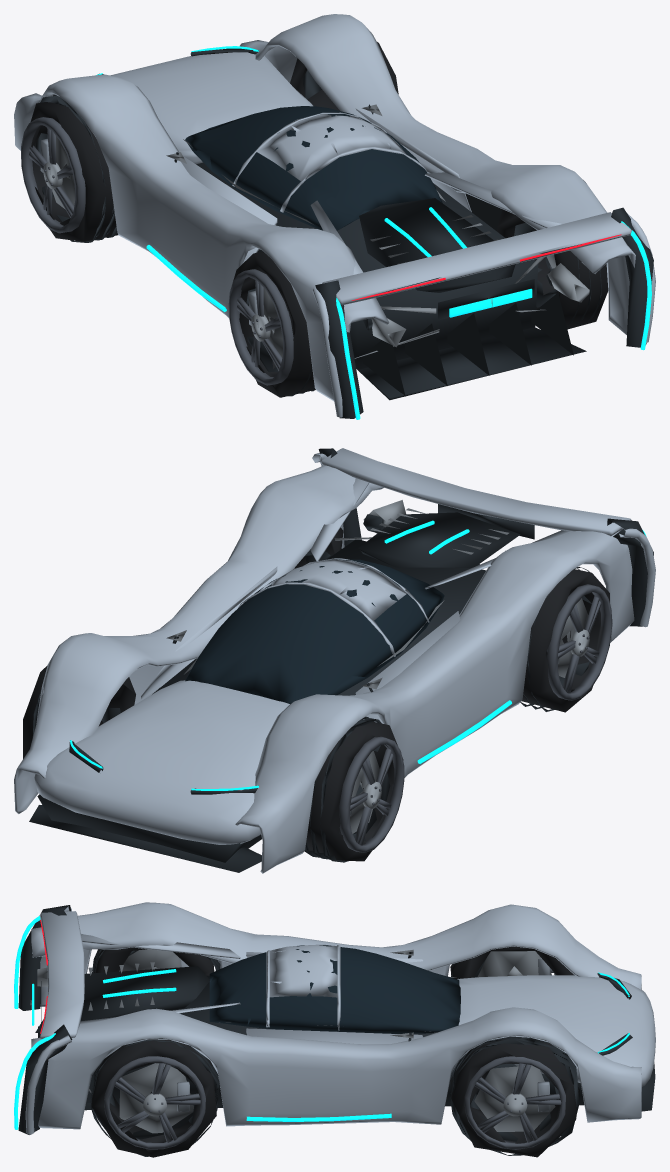
File: CloudlineLOD2.fbx
The picture shows the model from 3 angles, top to bottom: view 1: azimuth 30°, elevation 25°; view 2: azimuth 150°, elevation 25°; view 3: azimuth 270°, elevation 25°; orthographic projection. The views are drawn at different scales.
Parts seen in each view (by area): view 1: Liquid_Silver, Graphite_Aero, Midnight_Glass, Tire_Rubber, Dark_Forged_Rim, Satin_Titanium, Cyan_Energy, Brake_Ceramic; view 2: Liquid_Silver, Graphite_Aero, Midnight_Glass, Tire_Rubber, Dark_Forged_Rim, Satin_Titanium, Brake_Ceramic, Cyan_Energy; view 3: Liquid_Silver, Midnight_Glass, Graphite_Aero, Tire_Rubber, Brake_Ceramic, Dark_Forged_Rim, Cyan_Energy, Satin_Titanium, Titanium_Caliper.
Boxes of the visible parts, <box> form: Liquid_Silver: <box>14,14,655,417</box>; Graphite_Aero: <box>35,48,653,418</box>; Midnight_Glass: <box>185,106,442,230</box>; Tire_Rubber: <box>29,42,608,397</box>; Dark_Forged_Rim: <box>21,117,551,385</box>; Satin_Titanium: <box>43,104,589,358</box>; Cyan_Energy: <box>96,46,651,419</box>; Brake_Ceramic: <box>52,135,556,370</box>; Liquid_Silver: <box>14,448,655,873</box>; Graphite_Aero: <box>29,448,653,872</box>; Midnight_Glass: <box>185,559,444,703</box>; Tire_Rubber: <box>23,527,609,861</box>; Dark_Forged_Rim: <box>339,584,612,852</box>; Satin_Titanium: <box>166,500,589,808</box>; Brake_Ceramic: <box>293,567,588,833</box>; Cyan_Energy: <box>70,520,646,790</box>; Liquid_Silver: <box>25,902,655,1134</box>; Midnight_Glass: <box>209,945,460,1033</box>; Graphite_Aero: <box>18,905,655,1156</box>; Tire_Rubber: <box>91,946,579,1157</box>; Brake_Ceramic: <box>119,949,555,1133</box>; Dark_Forged_Rim: <box>104,968,565,1149</box>; Cyan_Energy: <box>14,916,629,1129</box>; Satin_Titanium: <box>30,949,527,1116</box>; Titanium_Caliper: <box>177,958,550,1111</box>.
Bounding box in the file's own units: 265 × 128 × 519.
